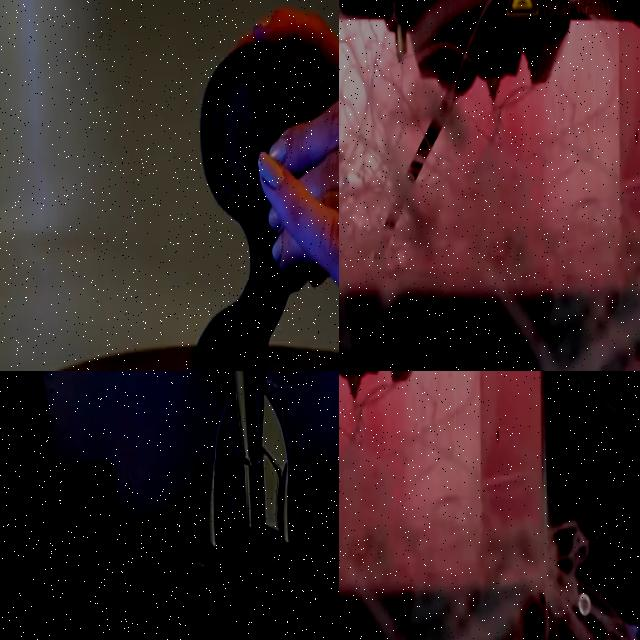spaghetti: (339, 0, 640, 371), (339, 371, 640, 640)
